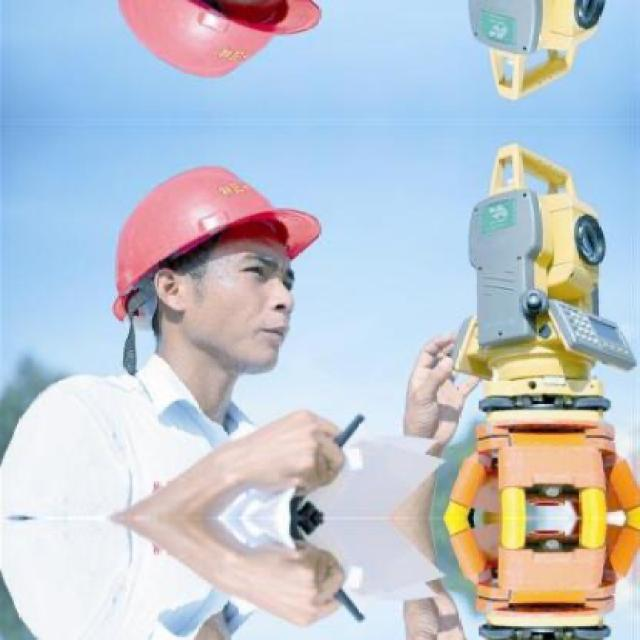con casco: (66, 134, 351, 373)
